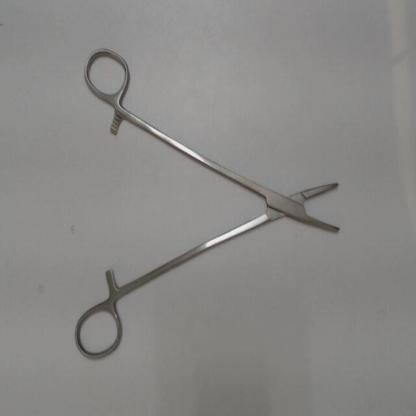8 Mayo Needle Holder: (68, 40, 357, 368)
